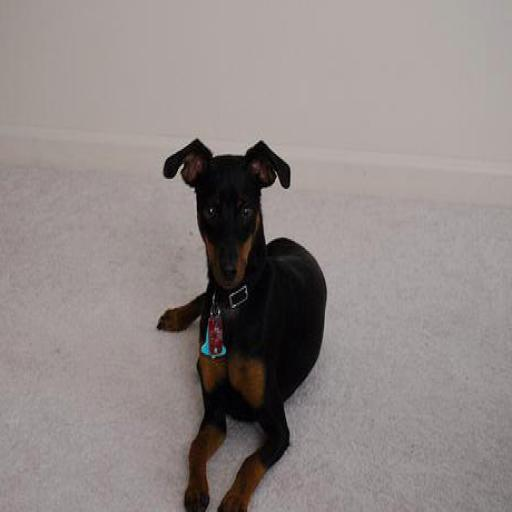dog_face: (154, 132, 292, 293)
